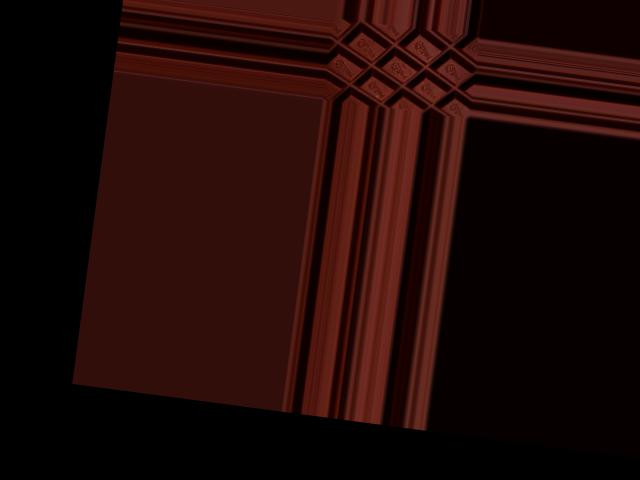chocolate: (323, 16, 476, 115)
